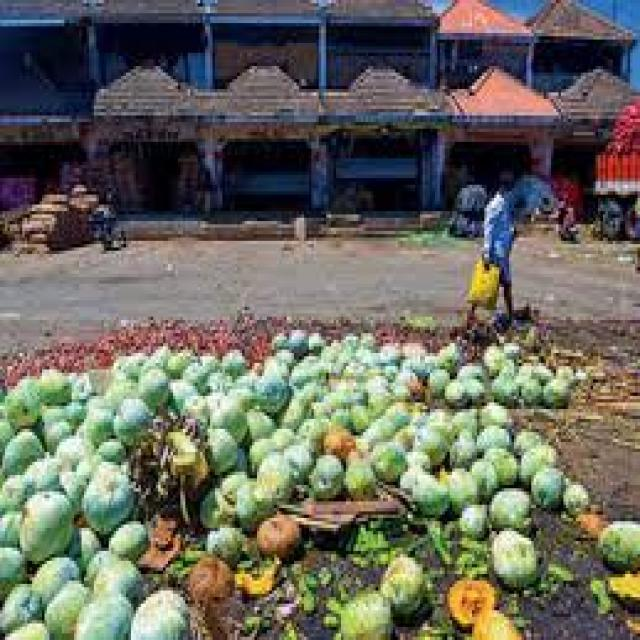Wet: (0, 316, 640, 640), (321, 524, 541, 640)
